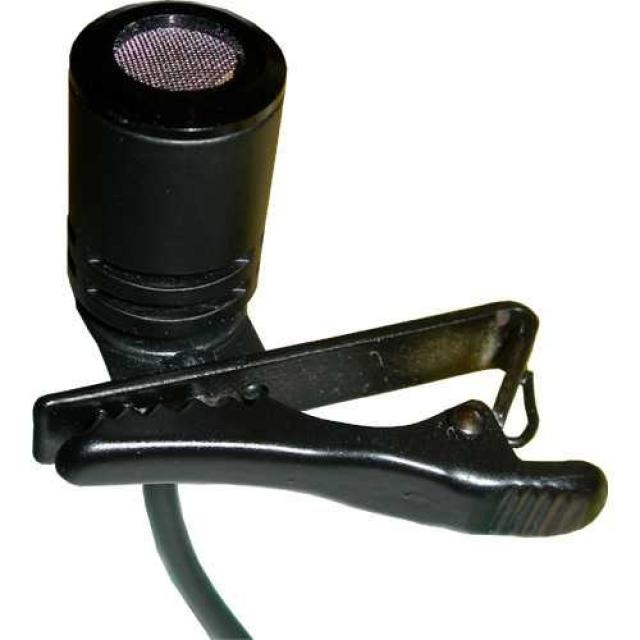microphone: (68, 1, 286, 340)
